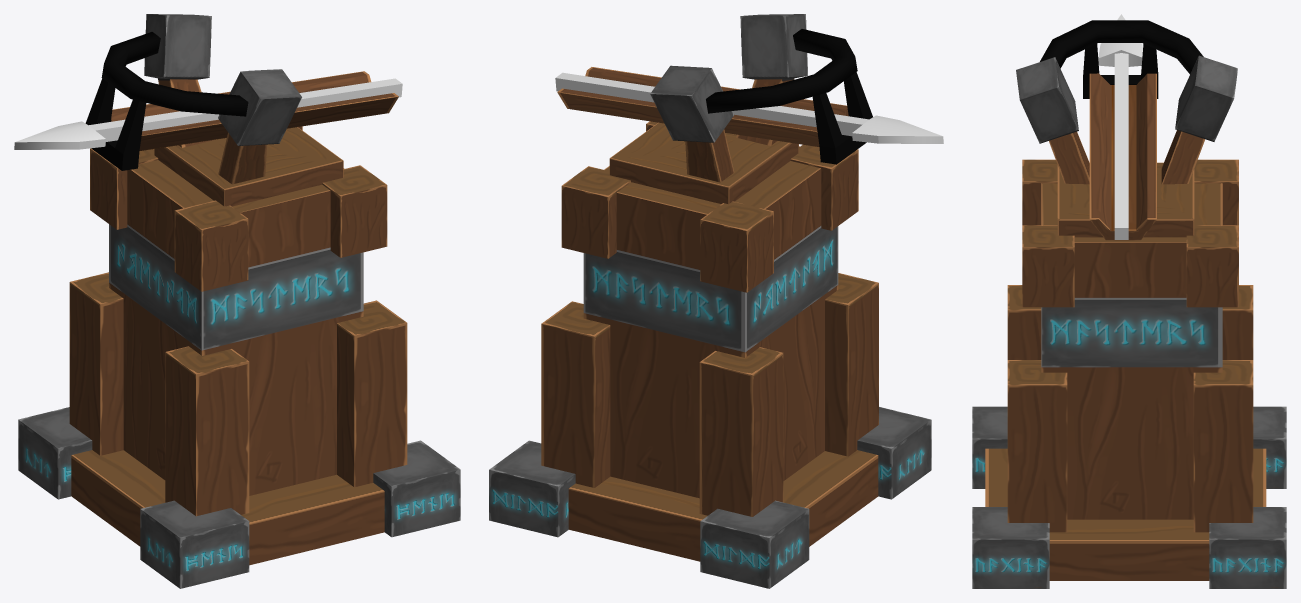
The model's file is Tower 1.FBX.
3 renders of one model, left to right at view 1: azimuth 30°, elevation 25°; view 2: azimuth 150°, elevation 25°; view 3: azimuth 270°, elevation 25°, orthographic. The views are drawn at different scales.
Visible parts, largest first — view 1: Box193, Box039, Box041, Box187, Box191, Box040, Box246, Box244, Box042, Box184, Box243, Box188 (+7 smaller); view 2: Box193, Box039, Box191, Box190, Box041, Box186, Box246, Box245, Box185, Box192, Box243, Box189 (+7 smaller); view 3: Box193, Box039, Box187, Box190, Box243, Box184, Box185, Box245, Box244, Box246, Box189, Box188 (+10 smaller).
Part boxes in pixels (box(x1,y1,x2,y2)): Box193: box(109, 149, 363, 495); Box039: box(71, 450, 384, 565); Box041: box(165, 346, 249, 516); Box187: box(337, 300, 407, 487); Box191: box(69, 272, 123, 455); Box040: box(140, 500, 249, 588); Box246: box(154, 127, 343, 206); Box244: box(218, 69, 301, 184); Box042: box(174, 200, 248, 291); Box184: box(373, 440, 460, 537); Box243: box(110, 71, 398, 150); Box188: box(322, 165, 387, 257); Box193: box(583, 146, 838, 498); Box039: box(568, 450, 878, 561); Box191: box(699, 347, 783, 516); Box190: box(541, 301, 610, 487); Box041: box(825, 273, 878, 456); Box186: box(700, 500, 809, 588); Box246: box(609, 122, 798, 204); Box245: box(650, 65, 734, 182); Box185: box(489, 440, 575, 537); Box192: box(700, 201, 773, 292); Box243: box(557, 67, 848, 146); Box189: box(561, 166, 630, 258); Box193: box(1041, 183, 1222, 519); Box039: box(985, 448, 1266, 580); Box187: box(1007, 360, 1067, 532); Box190: box(1193, 360, 1253, 532); Box243: box(1089, 73, 1156, 240); Box184: box(972, 507, 1049, 588); Box185: box(1209, 507, 1286, 588); Box245: box(1161, 55, 1237, 184); Box244: box(1016, 57, 1089, 184); Box246: box(1057, 162, 1194, 237); Box189: box(1186, 225, 1238, 307); Box188: box(1022, 225, 1074, 307).
Bounding box in the file's own units: 61.46 × 70.62 × 44.81.
